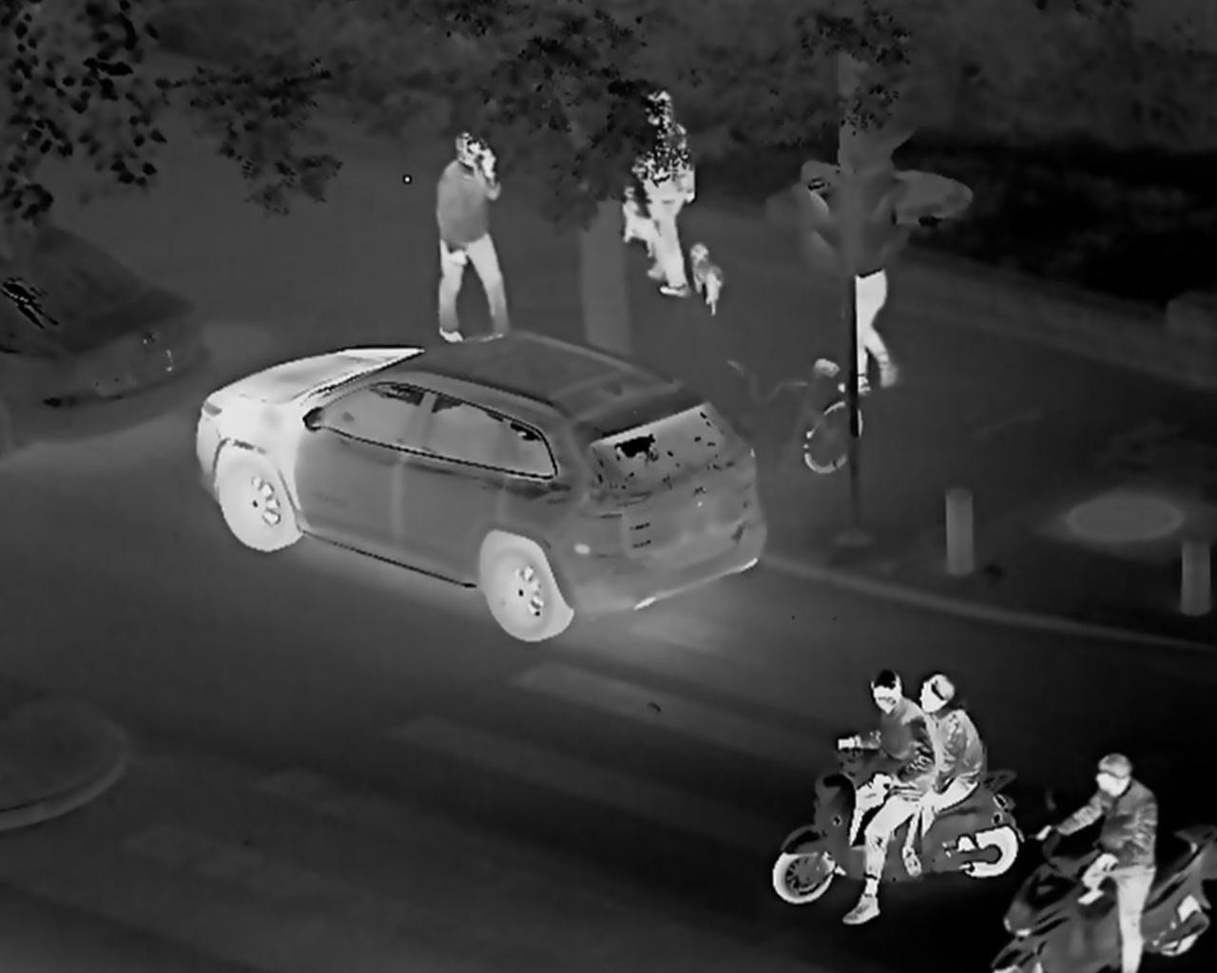person: (824, 669, 928, 925), (1042, 754, 1152, 973), (427, 128, 520, 355), (905, 664, 984, 883), (636, 87, 705, 297), (840, 195, 899, 393)
